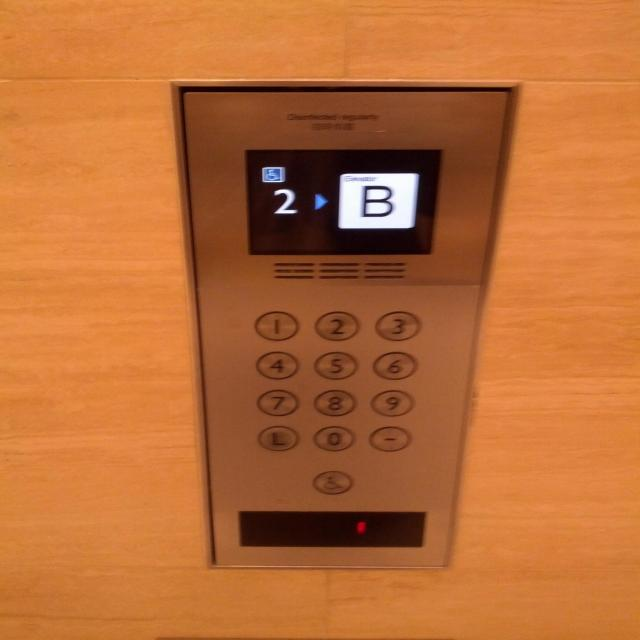-: (368, 426, 412, 452)
0: (312, 426, 356, 451)
1: (254, 309, 298, 342)
2: (313, 311, 359, 341)
3: (373, 310, 420, 342)
4: (254, 350, 300, 380)
5: (313, 350, 357, 380)
6: (371, 351, 417, 380)
7: (255, 388, 300, 417)
8: (313, 388, 358, 417)
9: (369, 389, 416, 417)
CH: (312, 470, 354, 495)
L: (257, 425, 300, 452)
led: (243, 148, 444, 255), (236, 510, 428, 549)
